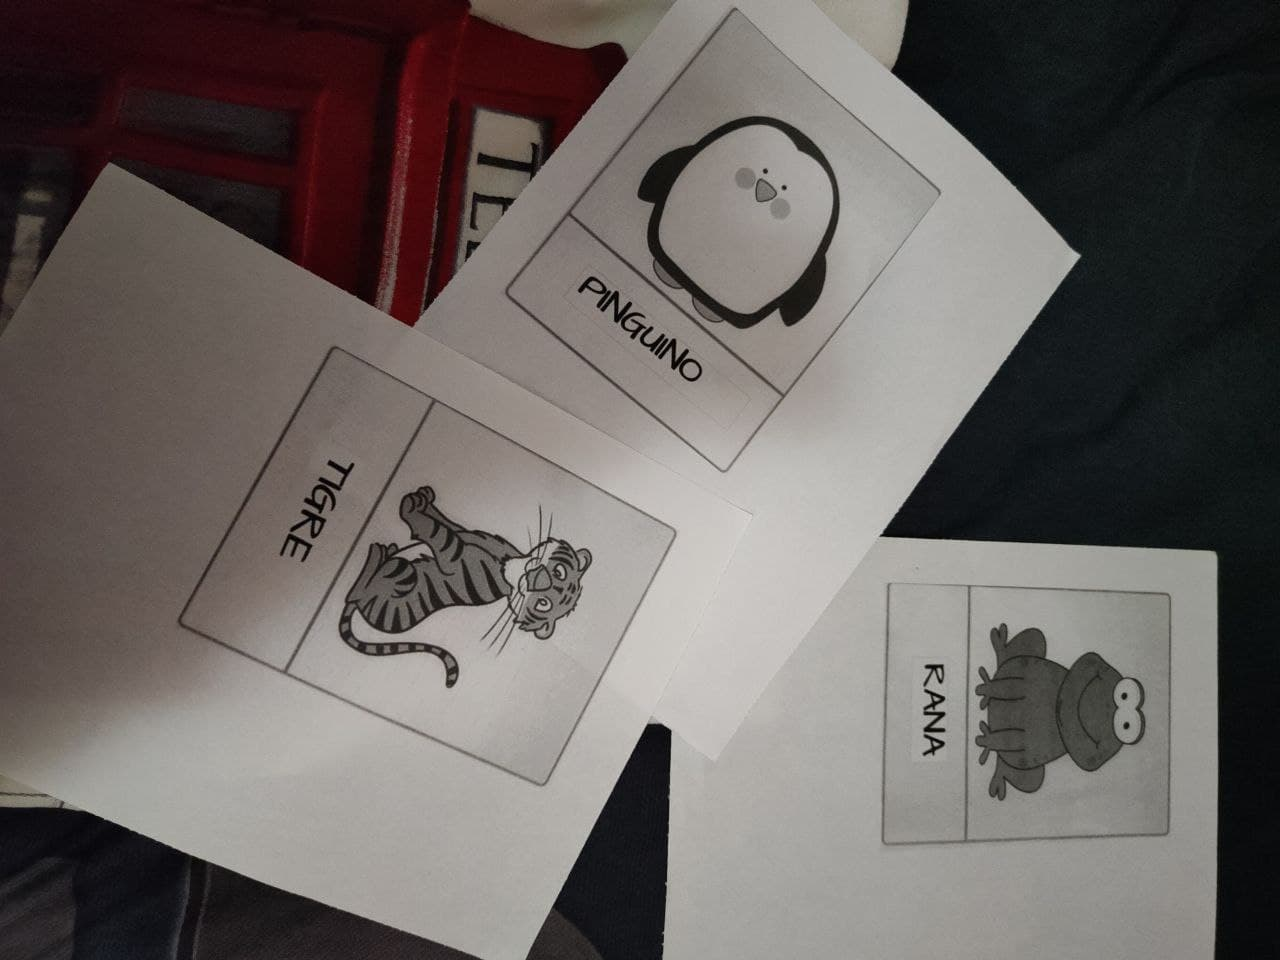pinguino: (560, 102, 845, 443)
rana: (893, 595, 1173, 835)
tigre: (264, 452, 602, 716)
